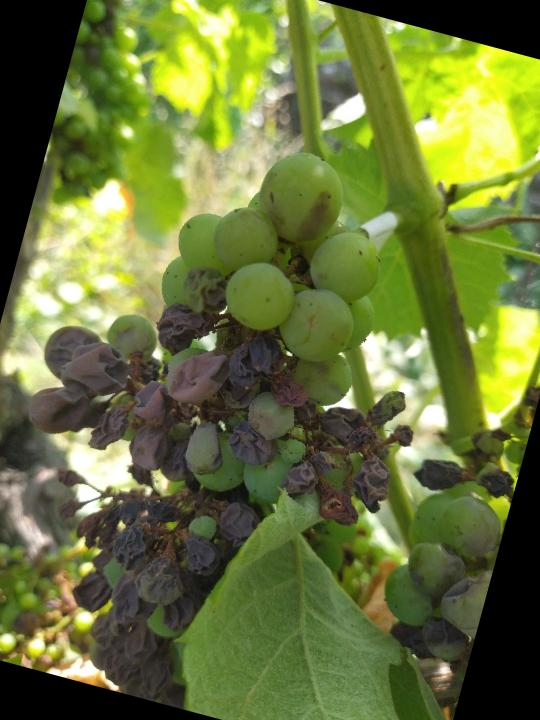grape: (0, 94, 479, 720)
